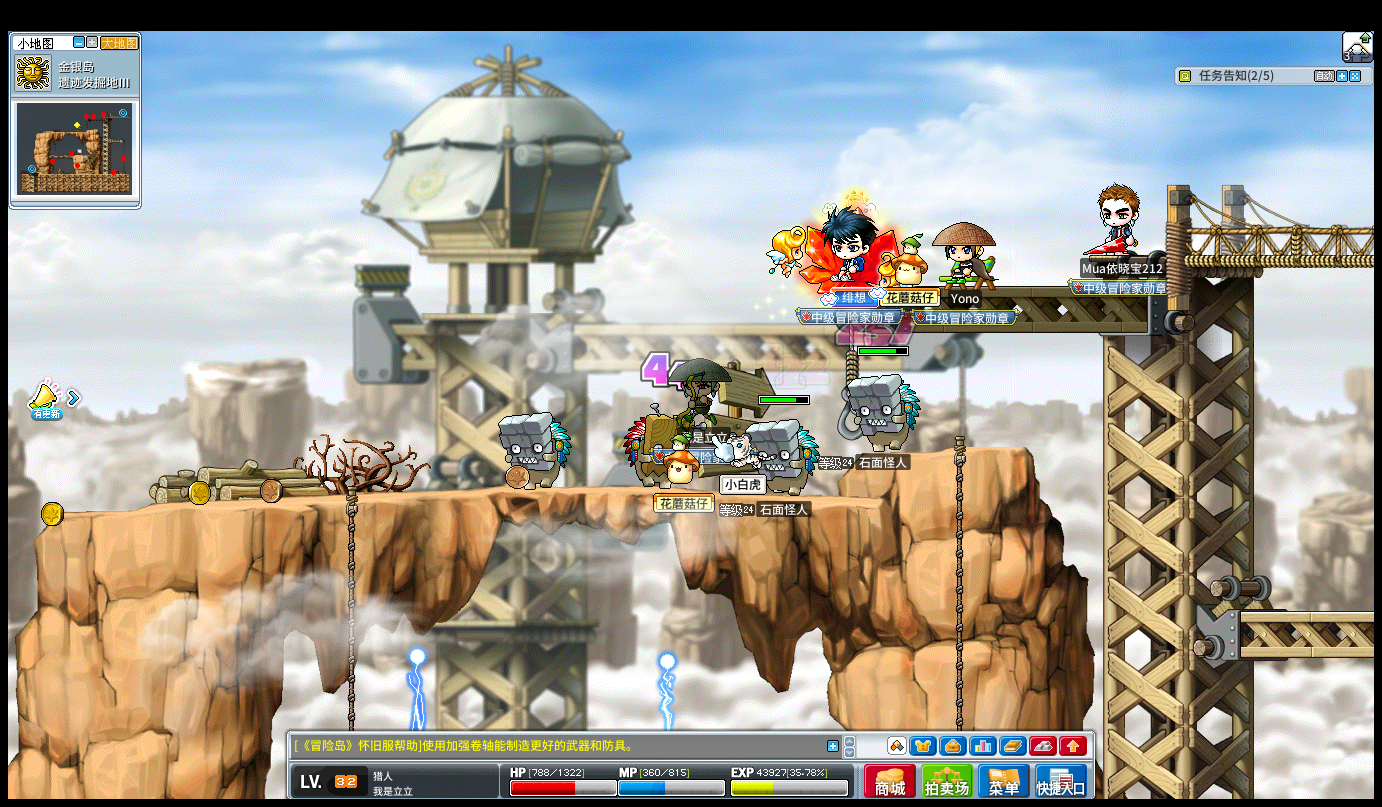floor: (44, 480, 910, 514), (51, 482, 924, 506), (54, 483, 914, 500), (1184, 219, 1377, 236), (1238, 606, 1377, 624), (910, 444, 1031, 459)
monster: (844, 372, 921, 450), (498, 412, 572, 489), (750, 418, 820, 496), (623, 407, 680, 486)
rope: (343, 480, 358, 807), (951, 434, 966, 748), (345, 482, 357, 711)
